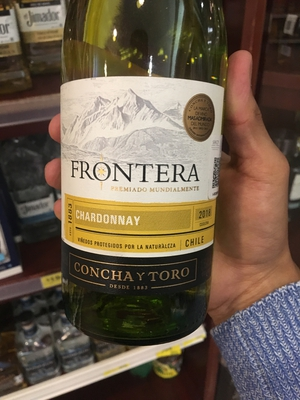frontera chardonnay: (55, 15, 227, 342)
